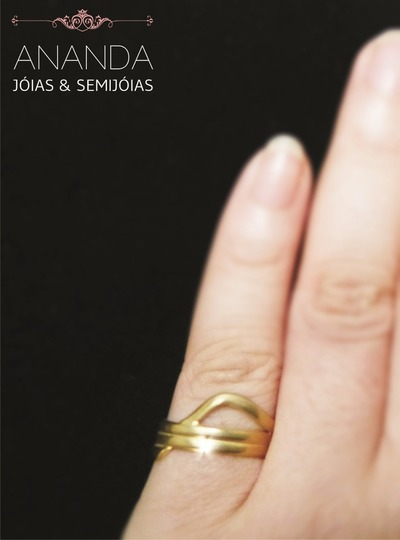mindinho: (136, 108, 335, 491)
